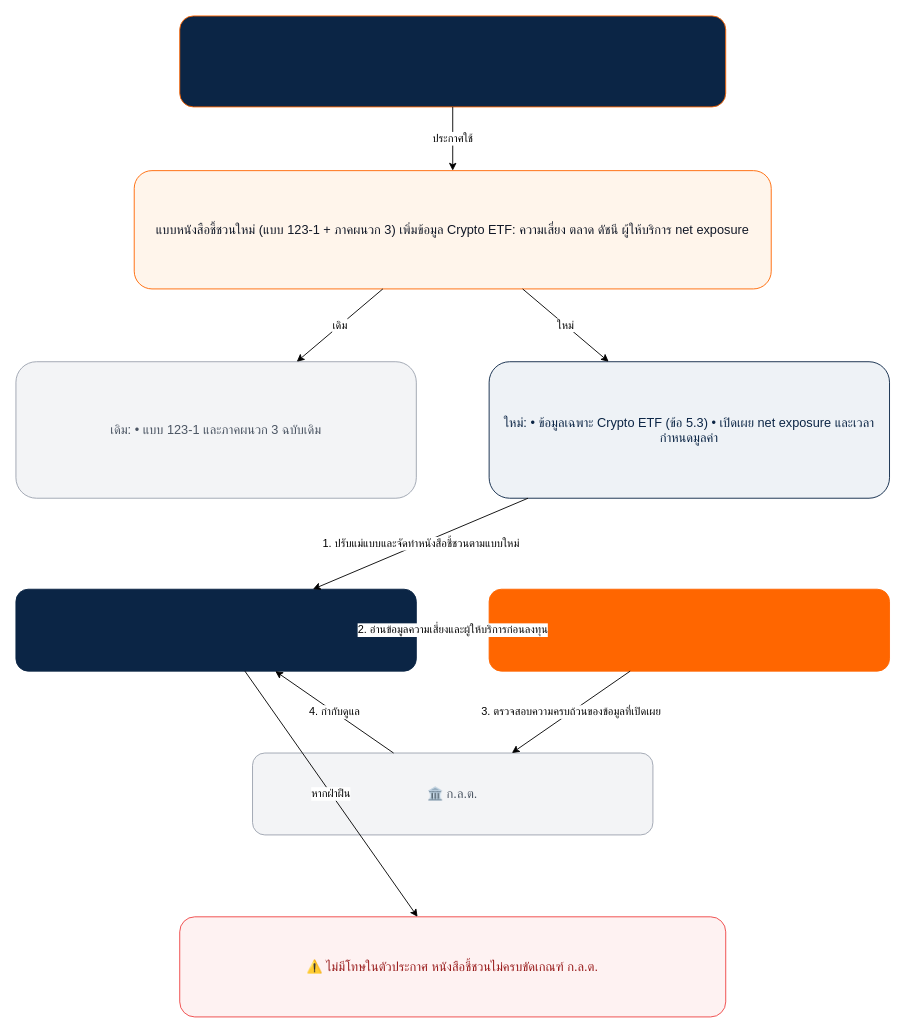
Some shapes in this 905 by 1033 pixel diagram are drawn without their labels. The shapes that lost their labels are listed below. From the top down, each one's box as (x1, y1, x2, y2) in pixels, then its label:
(179, 15, 726, 107): สน.17/2569 หนังสือชี้ชวน Crypto ETF
(15, 588, 416, 671): 🏢 บลจ. / ผู้ออกเอกสาร
(488, 588, 890, 671): 👤 ผู้ลงทุน
